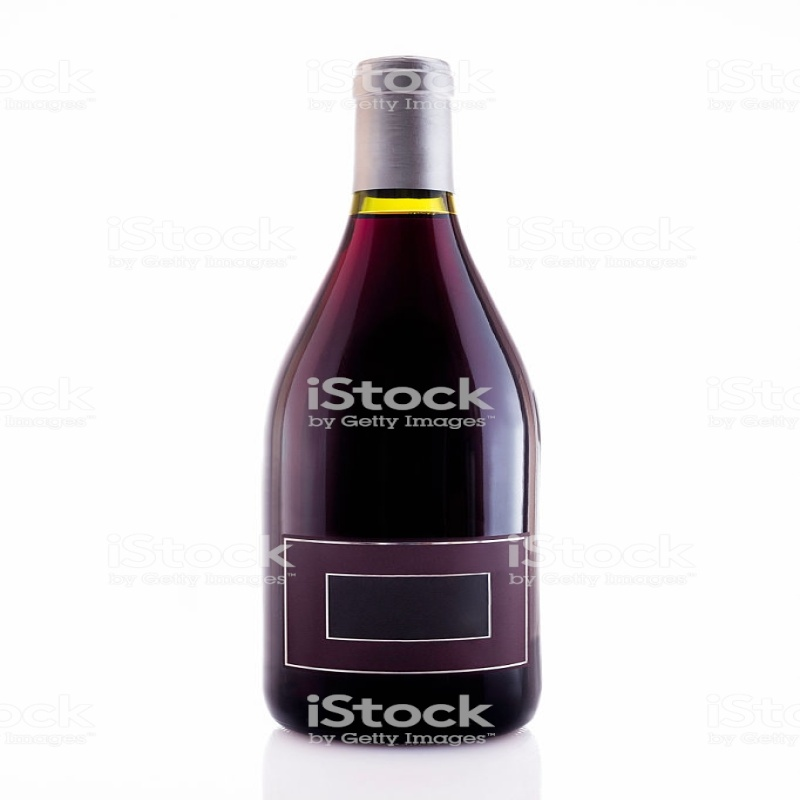wine: (266, 59, 541, 743)
